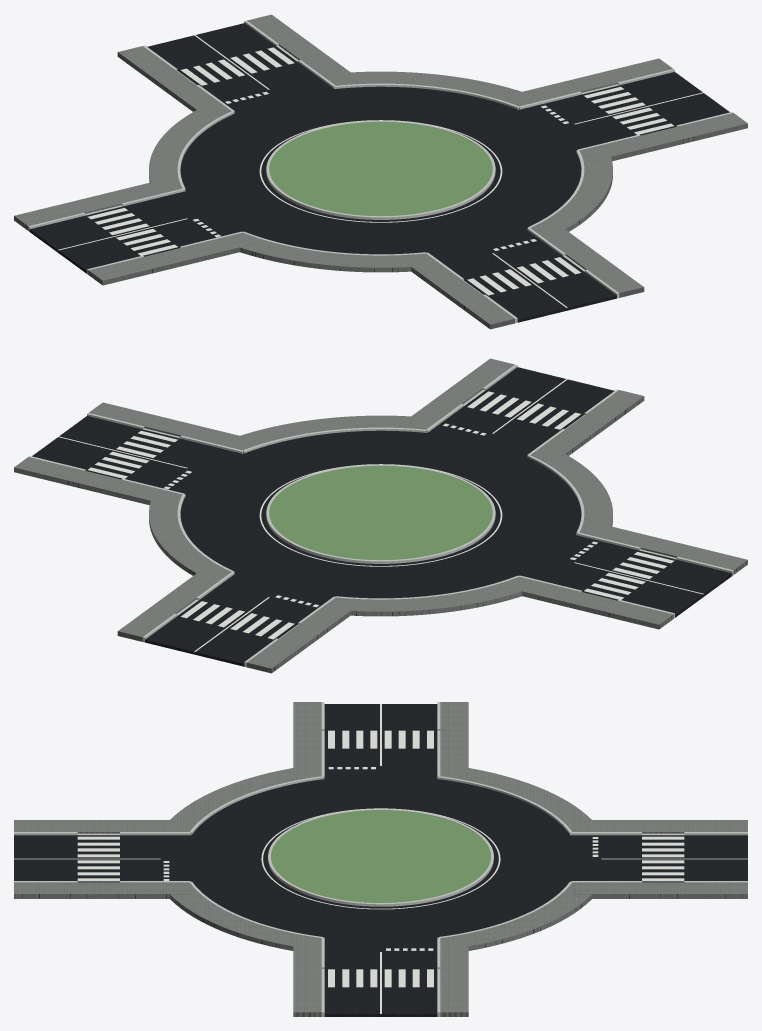
File: RK2_Roundabout_52m.fbx
The picture shows the model from 3 angles, top to bottom: view 1: azimuth 30°, elevation 25°; view 2: azimuth 150°, elevation 25°; view 3: azimuth 270°, elevation 25°; orthographic projection.
Visible parts, largest first — view 1: COL_Asphalt.003, COL_Paving.003, COL_Grass, Markings_White.003, COL_Concrete.003, Curb_Concrete.003; view 2: COL_Asphalt.003, COL_Paving.003, COL_Grass, Markings_White.003, COL_Concrete.003, Curb_Concrete.003; view 3: COL_Asphalt.003, COL_Paving.003, COL_Grass, Markings_White.003, COL_Concrete.003, Curb_Concrete.003.
Part boxes in pixels (bbox=[...]): COL_Asphalt.003: bbox=[29, 23, 729, 322]; COL_Paving.003: bbox=[14, 14, 747, 329]; COL_Grass: bbox=[269, 122, 492, 216]; Markings_White.003: bbox=[58, 35, 703, 307]; COL_Concrete.003: bbox=[28, 20, 732, 323]; Curb_Concrete.003: bbox=[29, 25, 732, 318]; COL_Asphalt.003: bbox=[32, 367, 732, 666]; COL_Paving.003: bbox=[14, 358, 747, 673]; COL_Grass: bbox=[269, 466, 492, 560]; Markings_White.003: bbox=[58, 379, 703, 651]; COL_Concrete.003: bbox=[28, 364, 733, 667]; Curb_Concrete.003: bbox=[30, 365, 733, 660]; COL_Asphalt.003: bbox=[14, 704, 747, 1016]; COL_Paving.003: bbox=[14, 702, 747, 1016]; COL_Grass: bbox=[271, 810, 490, 902]; Markings_White.003: bbox=[14, 704, 747, 1013]; COL_Concrete.003: bbox=[14, 702, 747, 1016]; Curb_Concrete.003: bbox=[14, 702, 747, 1012].
Bounding box in the file's own units: 5200 × 42 × 5200.
5 materials, 2 textured.
